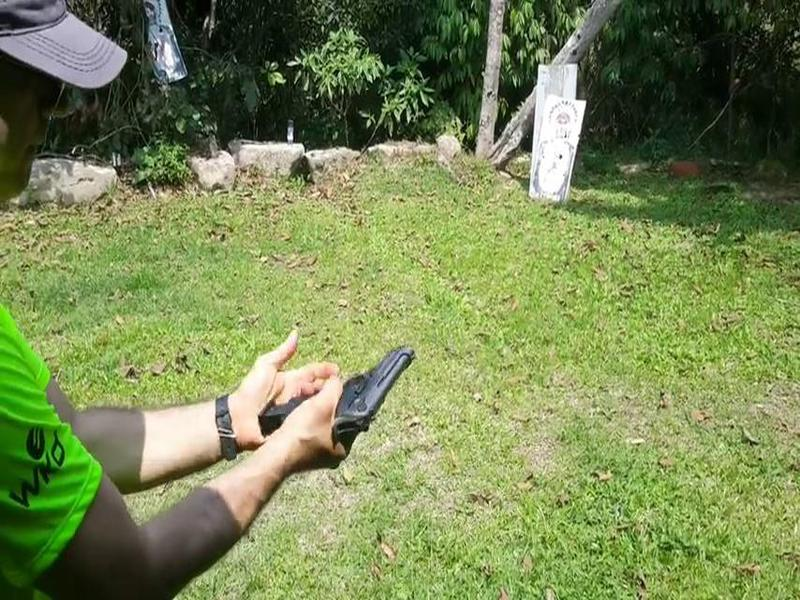Pistola: (281, 340, 424, 434)
